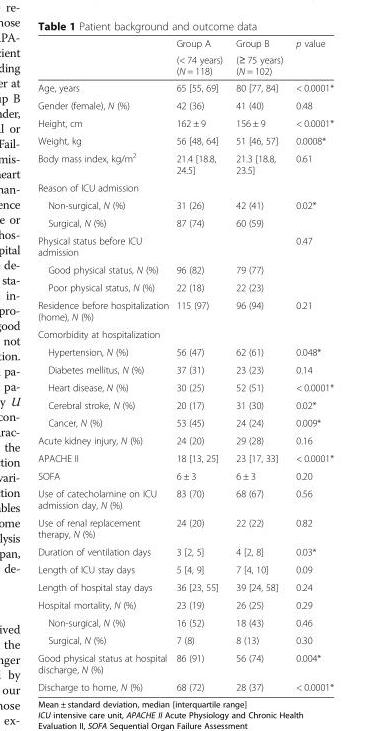table: (37, 37, 333, 692)
table column: (37, 37, 171, 692), (228, 37, 288, 692), (171, 37, 228, 692), (288, 37, 333, 692)
table column header: (37, 37, 333, 79)
table projected row header: (37, 178, 333, 196), (37, 325, 333, 342)
table row: (37, 148, 333, 178), (37, 50, 333, 79), (37, 231, 333, 260), (37, 296, 333, 325), (37, 484, 333, 513), (37, 513, 333, 542), (37, 648, 333, 677), (37, 113, 333, 131), (37, 178, 333, 196), (37, 213, 333, 231), (37, 260, 333, 278), (37, 278, 333, 296), (37, 342, 333, 360), (37, 360, 333, 378), (37, 395, 333, 413), (37, 413, 333, 431), (37, 431, 333, 449), (37, 466, 333, 484), (37, 542, 333, 560), (37, 560, 333, 578), (37, 595, 333, 613), (37, 613, 333, 631), (37, 79, 333, 96), (37, 96, 333, 113), (37, 131, 333, 148), (37, 196, 333, 213), (37, 325, 333, 342), (37, 378, 333, 395), (37, 449, 333, 466), (37, 578, 333, 595), (37, 631, 333, 648), (37, 677, 333, 692), (37, 37, 333, 50)
table spanning cell: (228, 37, 288, 79), (171, 37, 228, 79), (288, 37, 333, 79), (288, 196, 333, 231)
